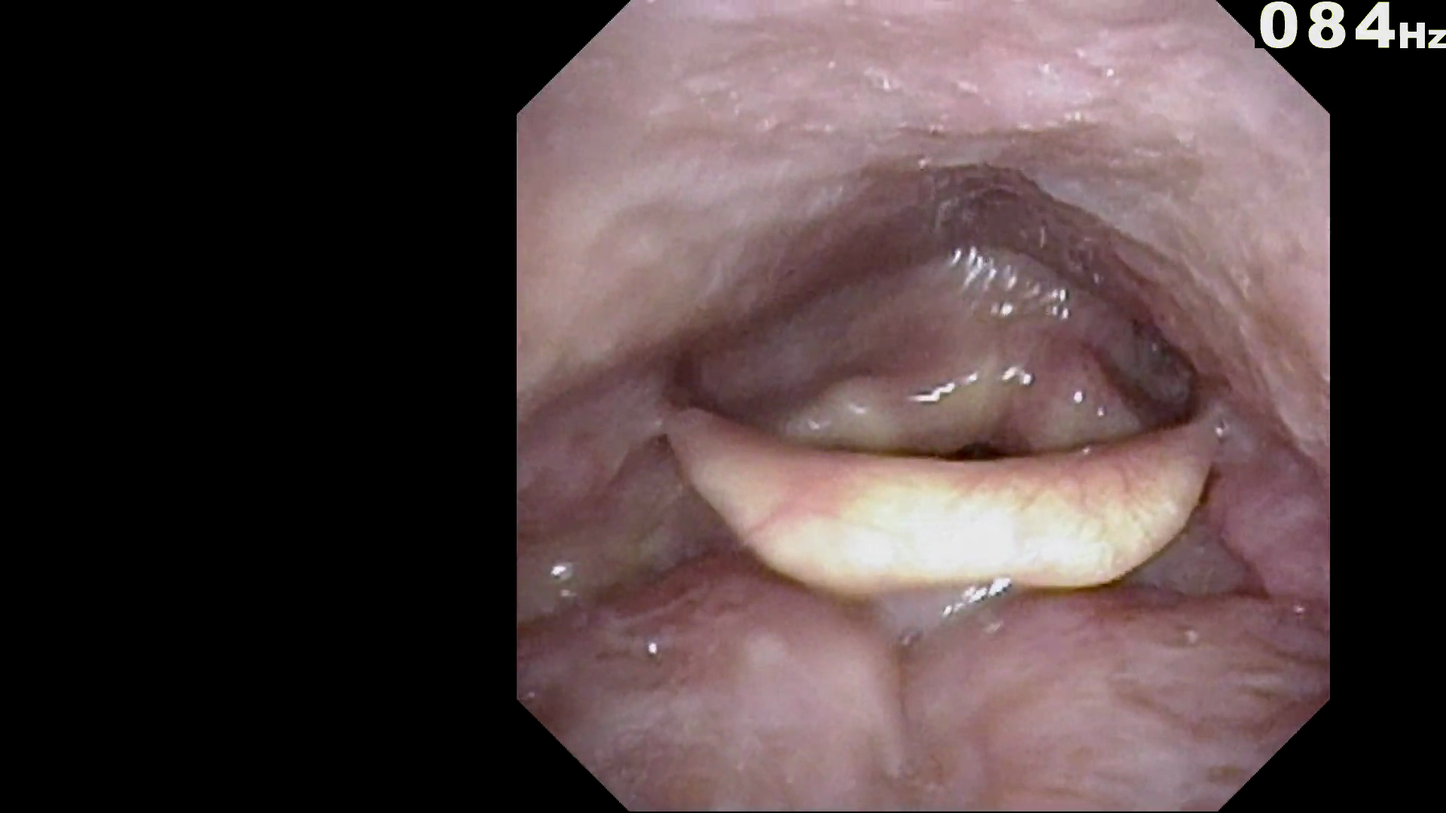epiglottis: (645, 344, 1242, 638)
trachea: (938, 396, 1023, 487)
